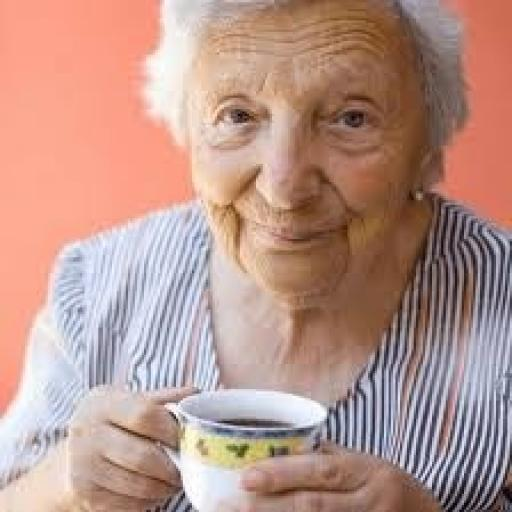drinking: (158, 387, 327, 510)
